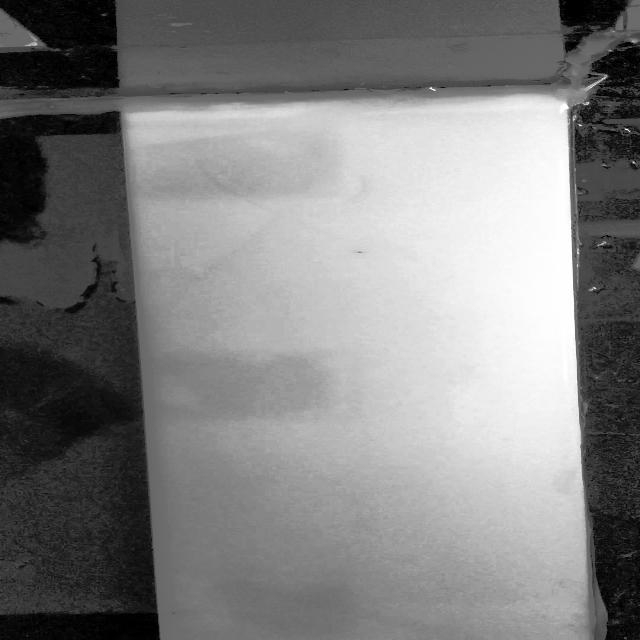shrimp: (344, 249, 374, 259), (163, 608, 186, 619)
